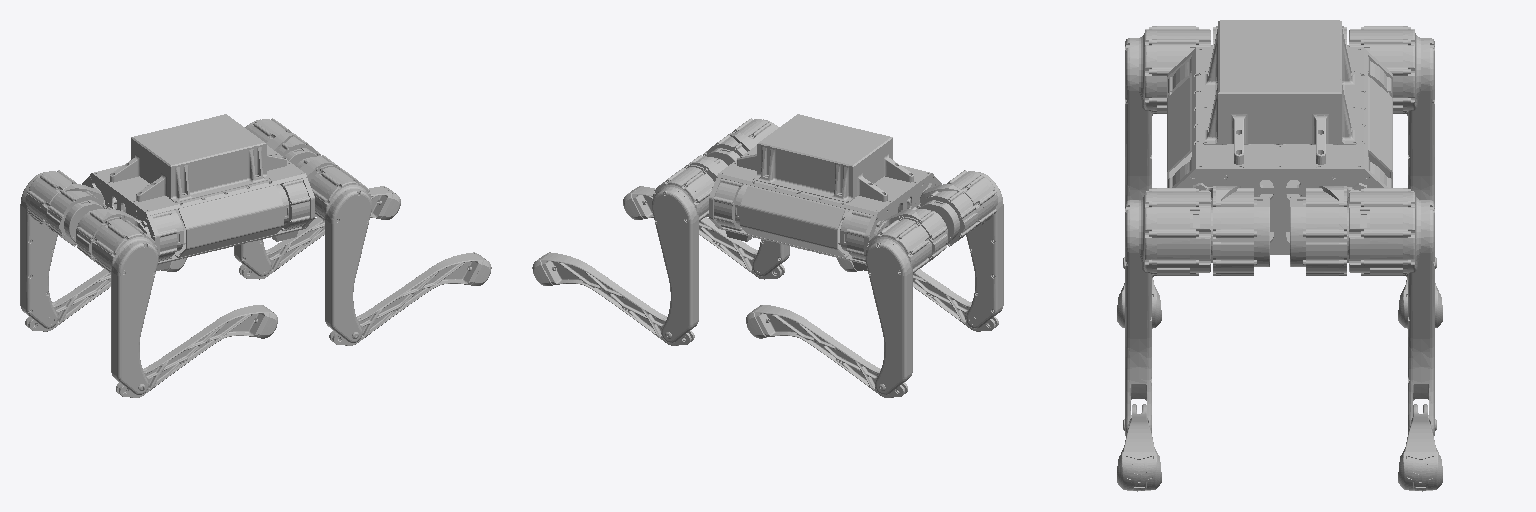
The robot description file, URDF, robot "URDF-V4-test1":
<?xml version="1.0" encoding="utf-8"?>
<!-- This URDF was automatically created by SolidWorks to URDF Exporter! Originally created by Stephen Brawner (brawner@gmail.com) 
     Commit Version: 1.6.0-4-g7f85cfe  Build Version: 1.6.7995.38578
     For more information, please see http://wiki.ros.org/sw_urdf_exporter -->
<robot
  name="URDF-V4-test1">
  <link
    name="base_link">
    <inertial>
      <origin
        xyz="-0.00049167 6.7769E-09 -0.046567"
        rpy="0 0 0" />
      <mass
        value="6.9493" />
      <inertia
        ixx="0.012221"
        ixy="-6.134E-09"
        ixz="-2.1399E-05"
        iyy="0.019119"
        iyz="-7.2605E-10"
        izz="0.025686" />
    </inertial>
    <visual>
      <origin
        xyz="0 0 0"
        rpy="0 0 0" />
      <geometry>
        <mesh
          filename="package://URDF-V4-test1/meshes/base_link.STL" />
      </geometry>
      <material
        name="">
        <color
          rgba="0.75294 0.75294 0.75294 1" />
      </material>
    </visual>
    <collision>
      <origin
        xyz="0 0 0"
        rpy="0 0 0" />
      <geometry>
        <mesh
          filename="package://URDF-V4-test1/meshes/base_link.STL" />
      </geometry>
    </collision>
  </link>
  <link
    name="fl_abad_link">
    <inertial>
      <origin
        xyz="0.042078 -0.024479 6.3482E-08"
        rpy="0 0 0" />
      <mass
        value="0.92886" />
      <inertia
        ixx="0.00049446"
        ixy="5.9311E-06"
        ixz="1.2866E-08"
        iyy="0.00075143"
        iyz="6.7955E-10"
        izz="0.0005481" />
    </inertial>
    <visual>
      <origin
        xyz="0 0 0"
        rpy="0 0 0" />
      <geometry>
        <mesh
          filename="package://URDF-V4-test1/meshes/fl_abad_link.STL" />
      </geometry>
      <material
        name="">
        <color
          rgba="0.75294 0.75294 0.75294 1" />
      </material>
    </visual>
    <collision>
      <origin
        xyz="0 0 0"
        rpy="0 0 0" />
      <geometry>
        <mesh
          filename="package://URDF-V4-test1/meshes/fl_abad_link.STL" />
      </geometry>
    </collision>
  </link>
  <joint
    name="fl_abad_joint"
    type="revolute">
    <origin
      xyz="0.13323 0.071 -0.050115"
      rpy="0 0 0" />
    <parent
      link="base_link" />
    <child
      link="fl_abad_link" />
    <axis
      xyz="1 0 0" />
    <limit
      lower="-0.79"
      upper="0.79"
      effort="0"
      velocity="0" />
  </joint>
  <link
    name="fl_hip_link">
    <inertial>
      <origin
        xyz="-0.0029513 0.055351 -0.026412"
        rpy="0 0 0" />
      <mass
        value="1.2575" />
      <inertia
        ixx="0.0021493"
        ixy="4.4096E-07"
        ixz="-0.00012108"
        iyy="0.0024611"
        iyz="9.4296E-06"
        izz="0.00057093" />
    </inertial>
    <visual>
      <origin
        xyz="0 0 0"
        rpy="0 0 0" />
      <geometry>
        <mesh
          filename="package://URDF-V4-test1/meshes/fl_hip_link.STL" />
      </geometry>
      <material
        name="">
        <color
          rgba="0.75294 0.75294 0.75294 1" />
      </material>
    </visual>
    <collision>
      <origin
        xyz="0 0 0"
        rpy="0 0 0" />
      <geometry>
        <mesh
          filename="package://URDF-V4-test1/meshes/fl_hip_link.STL" />
      </geometry>
    </collision>
  </link>
  <joint
    name="fl_hip_joint"
    type="revolute">
    <origin
      xyz="0.05877 -0.01225 0"
      rpy="0 0 0" />
    <parent
      link="fl_abad_link" />
    <child
      link="fl_hip_link" />
    <axis
      xyz="0 1 0" />
    <limit
      lower="-1.74"
      upper="3.31"
      effort="0"
      velocity="0" />
  </joint>
  <link
    name="fl_knee_link">
    <inertial>
      <origin
        xyz="0.015776 3.4272E-08 -0.094656"
        rpy="0 0 0" />
      <mass
        value="0.16891" />
      <inertia
        ixx="0.0011426"
        ixy="2.4462E-10"
        ixz="0.00018241"
        iyy="0.0011885"
        iyz="5.5669E-10"
        izz="5.6498E-05" />
    </inertial>
    <visual>
      <origin
        xyz="0 0 0"
        rpy="0 0 0" />
      <geometry>
        <mesh
          filename="package://URDF-V4-test1/meshes/fl_knee_link.STL" />
      </geometry>
      <material
        name="">
        <color
          rgba="0.75294 0.75294 0.75294 1" />
      </material>
    </visual>
    <collision>
      <origin
        xyz="0 0 0"
        rpy="0 0 0" />
      <geometry>
        <mesh
          filename="package://URDF-V4-test1/meshes/fl_knee_link.STL" />
      </geometry>
    </collision>
  </link>
  <joint
    name="fl_knee_joint"
    type="revolute">
    <origin
      xyz="0 0.08215 -0.213"
      rpy="0 0 0" />
    <parent
      link="fl_hip_link" />
    <child
      link="fl_knee_link" />
    <axis
      xyz="0 1 0" />
    <limit
      lower="-2.67"
      upper="-0.79"
      effort="0"
      velocity="0" />
  </joint>
  <link
    name="fl_foot_link">
    <inertial>
      <origin
        xyz="-0.0069127 -2.3801E-06 -0.0065607"
        rpy="0 0 0" />
      <mass
        value="0.038902" />
      <inertia
        ixx="9.5493E-06"
        ixy="-2.2414E-10"
        ixz="1.8442E-06"
        iyy="7.8792E-06"
        iyz="-2.2924E-10"
        izz="1.0019E-05" />
    </inertial>
    <visual>
      <origin
        xyz="0 0 0"
        rpy="0 0 0" />
      <geometry>
        <mesh
          filename="package://URDF-V4-test1/meshes/fl_foot_link.STL" />
      </geometry>
      <material
        name="">
        <color
          rgba="0.75294 0.75294 0.75294 1" />
      </material>
    </visual>
    <collision>
      <origin
        xyz="0 0 0"
        rpy="0 0 0" />
      <geometry>
        <mesh
          filename="package://URDF-V4-test1/meshes/fl_foot_link.STL" />
      </geometry>
    </collision>
  </link>
  <joint
    name="fl_foot_joinf"
    type="fixed">
    <origin
      xyz="0.023578 0 -0.225"
      rpy="0 0 0" />
    <parent
      link="fl_knee_link" />
    <child
      link="fl_foot_link" />
    <axis
      xyz="0 0 0" />
  </joint>
  <link
    name="fr_abad_link">
    <inertial>
      <origin
        xyz="0.042078 0.024479 -6.3482E-08"
        rpy="0 0 0" />
      <mass
        value="0.92886" />
      <inertia
        ixx="0.00049446"
        ixy="-5.9311E-06"
        ixz="-1.2866E-08"
        iyy="0.00075143"
        iyz="6.7955E-10"
        izz="0.0005481" />
    </inertial>
    <visual>
      <origin
        xyz="0 0 0"
        rpy="0 0 0" />
      <geometry>
        <mesh
          filename="package://URDF-V4-test1/meshes/fr_abad_link.STL" />
      </geometry>
      <material
        name="">
        <color
          rgba="0.75294 0.75294 0.75294 1" />
      </material>
    </visual>
    <collision>
      <origin
        xyz="0 0 0"
        rpy="0 0 0" />
      <geometry>
        <mesh
          filename="package://URDF-V4-test1/meshes/fr_abad_link.STL" />
      </geometry>
    </collision>
  </link>
  <joint
    name="fr_abad_joint"
    type="revolute">
    <origin
      xyz="0.13323 -0.071 -0.050115"
      rpy="0 0 0" />
    <parent
      link="base_link" />
    <child
      link="fr_abad_link" />
    <axis
      xyz="1 0 0" />
    <limit
      lower="-0.79"
      upper="0.79"
      effort="0"
      velocity="0" />
  </joint>
  <link
    name="fr_hip_link">
    <inertial>
      <origin
        xyz="-0.00295127600653783 -0.0553505296691562 -0.0264119215015597"
        rpy="0 0 0" />
      <mass
        value="1.25749406115707" />
      <inertia
        ixx="0.00214930268727188"
        ixy="-4.40008235011207E-07"
        ixz="-0.000121089509845766"
        iyy="0.0024610842094822"
        iyz="-9.42818653322951E-06"
        izz="0.000570937306967131" />
    </inertial>
    <visual>
      <origin
        xyz="0 0 0"
        rpy="0 0 0" />
      <geometry>
        <mesh
          filename="package://URDF-V4-test1/meshes/fr_hip_link.STL" />
      </geometry>
      <material
        name="">
        <color
          rgba="0.752941176470588 0.752941176470588 0.752941176470588 1" />
      </material>
    </visual>
    <collision>
      <origin
        xyz="0 0 0"
        rpy="0 0 0" />
      <geometry>
        <mesh
          filename="package://URDF-V4-test1/meshes/fr_hip_link.STL" />
      </geometry>
    </collision>
  </link>
  <joint
    name="fr_hip_joint"
    type="revolute">
    <origin
      xyz="0.05877 0.01225 0"
      rpy="0 0 0" />
    <parent
      link="fr_abad_link" />
    <child
      link="fr_hip_link" />
    <axis
      xyz="0 1 0" />
    <limit
      lower="-1.74"
      upper="3.31"
      effort="0"
      velocity="0" />
  </joint>
  <link
    name="fr_knee_link">
    <inertial>
      <origin
        xyz="0.0157755275951559 3.42715062162657E-08 -0.0946563799349887"
        rpy="0 0 0" />
      <mass
        value="0.168909137591324" />
      <inertia
        ixx="0.00114264801809999"
        ixy="2.4461869443836E-10"
        ixz="0.000182407238717794"
        iyy="0.00118852208037432"
        iyz="5.5668564448487E-10"
        izz="5.64976757542647E-05" />
    </inertial>
    <visual>
      <origin
        xyz="0 0 0"
        rpy="0 0 0" />
      <geometry>
        <mesh
          filename="package://URDF-V4-test1/meshes/fr_knee_link.STL" />
      </geometry>
      <material
        name="">
        <color
          rgba="0.752941176470588 0.752941176470588 0.752941176470588 1" />
      </material>
    </visual>
    <collision>
      <origin
        xyz="0 0 0"
        rpy="0 0 0" />
      <geometry>
        <mesh
          filename="package://URDF-V4-test1/meshes/fr_knee_link.STL" />
      </geometry>
    </collision>
  </link>
  <joint
    name="fr_knee_joint"
    type="revolute">
    <origin
      xyz="0 -0.08215 -0.213"
      rpy="0 0 0" />
    <parent
      link="fr_hip_link" />
    <child
      link="fr_knee_link" />
    <axis
      xyz="0 1 0" />
    <limit
      lower="-2.67"
      upper="-0.79"
      effort="0"
      velocity="0" />
  </joint>
  <link
    name="fr_foot_link">
    <inertial>
      <origin
        xyz="-0.00533475077061957 -1.79093260405105E-06 -0.00656074867502143"
        rpy="0 0 0" />
      <mass
        value="0.0389023220231465" />
      <inertia
        ixx="9.54931281293162E-06"
        ixy="-2.24143885745597E-10"
        ixz="1.84420622702918E-06"
        iyy="7.87920842448453E-06"
        iyz="-2.29243200516718E-10"
        izz="1.00191527344223E-05" />
    </inertial>
    <visual>
      <origin
        xyz="0 0 0"
        rpy="0 0 0" />
      <geometry>
        <mesh
          filename="package://URDF-V4-test1/meshes/fr_foot_link.STL" />
      </geometry>
      <material
        name="">
        <color
          rgba="0.752941176470588 0.752941176470588 0.752941176470588 1" />
      </material>
    </visual>
    <collision>
      <origin
        xyz="0 0 0"
        rpy="0 0 0" />
      <geometry>
        <mesh
          filename="package://URDF-V4-test1/meshes/fr_foot_link.STL" />
      </geometry>
    </collision>
  </link>
  <joint
    name="fr_foot_joint"
    type="fixed">
    <origin
      xyz="0.022 0 -0.225"
      rpy="0 0 0" />
    <parent
      link="fr_knee_link" />
    <child
      link="fr_foot_link" />
    <axis
      xyz="0 0 0" />
  </joint>
  <link
    name="rl_abad_link">
    <inertial>
      <origin
        xyz="-0.0420781692531116 -0.024478770162302 -6.34093414997317E-08"
        rpy="0 0 0" />
      <mass
        value="0.928856367851297" />
      <inertia
        ixx="0.000494458255829646"
        ixy="-5.93109415377525E-06"
        ixz="1.28644275061908E-08"
        iyy="0.000751427821800478"
        iyz="-6.78613492704525E-10"
        izz="0.000548097549898436" />
    </inertial>
    <visual>
      <origin
        xyz="0 0 0"
        rpy="0 0 0" />
      <geometry>
        <mesh
          filename="package://URDF-V4-test1/meshes/rl_abad_link.STL" />
      </geometry>
      <material
        name="">
        <color
          rgba="0.752941176470588 0.752941176470588 0.752941176470588 1" />
      </material>
    </visual>
    <collision>
      <origin
        xyz="0 0 0"
        rpy="0 0 0" />
      <geometry>
        <mesh
          filename="package://URDF-V4-test1/meshes/rl_abad_link.STL" />
      </geometry>
    </collision>
  </link>
  <joint
    name="rl_abad_joint"
    type="revolute">
    <origin
      xyz="-0.13323 0.071 -0.050115"
      rpy="0 0 0" />
    <parent
      link="base_link" />
    <child
      link="rl_abad_link" />
    <axis
      xyz="1 0 0" />
    <limit
      lower="-0.79"
      upper="0.79"
      effort="0"
      velocity="0" />
  </joint>
  <link
    name="rl_hip_link">
    <inertial>
      <origin
        xyz="-0.00295127219985069 0.0553508012651617 -0.0264119853083999"
        rpy="0 0 0" />
      <mass
        value="1.2575062472706" />
      <inertia
        ixx="0.002149309498134"
        ixy="4.40956484448867E-07"
        ixz="-0.000121084848677264"
        iyy="0.00246108793182743"
        iyz="9.4296030704541E-06"
        izz="0.000570934023383745" />
    </inertial>
    <visual>
      <origin
        xyz="0 0 0"
        rpy="0 0 0" />
      <geometry>
        <mesh
          filename="package://URDF-V4-test1/meshes/rl_hip_link.STL" />
      </geometry>
      <material
        name="">
        <color
          rgba="0.752941176470588 0.752941176470588 0.752941176470588 1" />
      </material>
    </visual>
    <collision>
      <origin
        xyz="0 0 0"
        rpy="0 0 0" />
      <geometry>
        <mesh
          filename="package://URDF-V4-test1/meshes/rl_hip_link.STL" />
      </geometry>
    </collision>
  </link>
  <joint
    name="rl_hip_joint"
    type="revolute">
    <origin
      xyz="-0.05877 -0.01225 0"
      rpy="0 0 0" />
    <parent
      link="rl_abad_link" />
    <child
      link="rl_hip_link" />
    <axis
      xyz="0 1 0" />
    <limit
      lower="-1.74"
      upper="3.31"
      effort="0"
      velocity="0" />
  </joint>
  <link
    name="rl_knee_link">
    <inertial>
      <origin
        xyz="0.0157755275951558 3.42715063827992E-08 -0.0946563799349867"
        rpy="0 0 0" />
      <mass
        value="0.168909137591316" />
      <inertia
        ixx="0.00114264801809902"
        ixy="2.44618692327364E-10"
        ixz="0.000182407238715603"
        iyy="0.00118852208035357"
        iyz="5.56685649036167E-10"
        izz="5.64976757319342E-05" />
    </inertial>
    <visual>
      <origin
        xyz="0 0 0"
        rpy="0 0 0" />
      <geometry>
        <mesh
          filename="package://URDF-V4-test1/meshes/rl_knee_link.STL" />
      </geometry>
      <material
        name="">
        <color
          rgba="0.752941176470588 0.752941176470588 0.752941176470588 1" />
      </material>
    </visual>
    <collision>
      <origin
        xyz="0 0 0"
        rpy="0 0 0" />
      <geometry>
        <mesh
          filename="package://URDF-V4-test1/meshes/rl_knee_link.STL" />
      </geometry>
    </collision>
  </link>
  <joint
    name="rl_knee_joint"
    type="revolute">
    <origin
      xyz="0 0.08215 -0.213"
      rpy="0 0 0" />
    <parent
      link="rl_hip_link" />
    <child
      link="rl_knee_link" />
    <axis
      xyz="0 1 0" />
    <limit
      lower="-2.67"
      upper="-0.79"
      effort="0"
      velocity="0" />
  </joint>
  <link
    name="rl_foot_link">
    <inertial>
      <origin
        xyz="-0.00566277667023726 -2.38009014508211E-06 -0.00693809930669181"
        rpy="0 0 0" />
      <mass
        value="0.0389023220231459" />
      <inertia
        ixx="9.5493128129314E-06"
        ixy="-2.24143885796009E-10"
        ixz="1.84420622702916E-06"
        iyy="7.87920842448442E-06"
        iyz="-2.29243200429862E-10"
        izz="1.0019152734422E-05" />
    </inertial>
    <visual>
      <origin
        xyz="0 0 0"
        rpy="0 0 0" />
      <geometry>
        <mesh
          filename="package://URDF-V4-test1/meshes/rl_foot_link.STL" />
      </geometry>
      <material
        name="">
        <color
          rgba="0.752941176470588 0.752941176470588 0.752941176470588 1" />
      </material>
    </visual>
    <collision>
      <origin
        xyz="0 0 0"
        rpy="0 0 0" />
      <geometry>
        <mesh
          filename="package://URDF-V4-test1/meshes/rl_foot_link.STL" />
      </geometry>
    </collision>
  </link>
  <joint
    name="rl_foot_joint"
    type="fixed">
    <origin
      xyz="0.022 0 -0.225"
      rpy="0 0 0" />
    <parent
      link="rl_knee_link" />
    <child
      link="rl_foot_link" />
    <axis
      xyz="0 0 0" />
  </joint>
  <link
    name="rr_abad_link">
    <inertial>
      <origin
        xyz="-0.0420781692973412 0.0244787701898436 6.34871614377253E-08"
        rpy="0 0 0" />
      <mass
        value="0.928856366079835" />
      <inertia
        ixx="0.000494458255385036"
        ixy="5.93109447406546E-06"
        ixz="-1.2865456411775E-08"
        iyy="0.000751427819863049"
        iyz="-6.79641783786189E-10"
        izz="0.000548097550476743" />
    </inertial>
    <visual>
      <origin
        xyz="0 0 0"
        rpy="0 0 0" />
      <geometry>
        <mesh
          filename="package://URDF-V4-test1/meshes/rr_abad_link.STL" />
      </geometry>
      <material
        name="">
        <color
          rgba="0.752941176470588 0.752941176470588 0.752941176470588 1" />
      </material>
    </visual>
    <collision>
      <origin
        xyz="0 0 0"
        rpy="0 0 0" />
      <geometry>
        <mesh
          filename="package://URDF-V4-test1/meshes/rr_abad_link.STL" />
      </geometry>
    </collision>
  </link>
  <joint
    name="rr_abad_joint"
    type="revolute">
    <origin
      xyz="-0.13323 -0.071 -0.050115"
      rpy="0 0 0" />
    <parent
      link="base_link" />
    <child
      link="rr_abad_link" />
    <axis
      xyz="1 0 0" />
    <limit
      lower="-0.79"
      upper="0.79"
      effort="0"
      velocity="0" />
  </joint>
  <link
    name="rr_hip_link">
    <inertial>
      <origin
        xyz="-0.00295127679931295 -0.055350529729996 -0.026411921870828"
        rpy="0 0 0" />
      <mass
        value="1.25749406287706" />
      <inertia
        ixx="0.00214930268681864"
        ixy="-4.39987018540022E-07"
        ixz="-0.000121089510032065"
        iyy="0.00246108420957282"
        iyz="-9.42817590134888E-06"
        izz="0.000570937307193574" />
    </inertial>
    <visual>
      <origin
        xyz="0 0 0"
        rpy="0 0 0" />
      <geometry>
        <mesh
          filename="package://URDF-V4-test1/meshes/rr_hip_link.STL" />
      </geometry>
      <material
        name="">
        <color
          rgba="0.752941176470588 0.752941176470588 0.752941176470588 1" />
      </material>
    </visual>
    <collision>
      <origin
        xyz="0 0 0"
        rpy="0 0 0" />
      <geometry>
        <mesh
          filename="package://URDF-V4-test1/meshes/rr_hip_link.STL" />
      </geometry>
    </collision>
  </link>
  <joint
    name="rr_hip_joint"
    type="revolute">
    <origin
      xyz="-0.05877 0.01225 0"
      rpy="0 0 0" />
    <parent
      link="rr_abad_link" />
    <child
      link="rr_hip_link" />
    <axis
      xyz="0 1 0" />
    <limit
      lower="-1.74"
      upper="3.31"
      effort="0"
      velocity="0" />
  </joint>
  <link
    name="rr_knee_link">
    <inertial>
      <origin
        xyz="0.0157755275951563 3.4271506070549E-08 -0.0946563799349878"
        rpy="0 0 0" />
      <mass
        value="0.168909137591319" />
      <inertia
        ixx="0.00114264801809904"
        ixy="2.44618693892352E-10"
        ixz="0.000182407238718271"
        iyy="0.00118852208034887"
        iyz="5.56685644110282E-10"
        izz="5.64976757281815E-05" />
    </inertial>
    <visual>
      <origin
        xyz="0 0 0"
        rpy="0 0 0" />
      <geometry>
        <mesh
          filename="package://URDF-V4-test1/meshes/rr_knee_link.STL" />
      </geometry>
      <material
        name="">
        <color
          rgba="0.752941176470588 0.752941176470588 0.752941176470588 1" />
      </material>
    </visual>
    <collision>
      <origin
        xyz="0 0 0"
        rpy="0 0 0" />
      <geometry>
        <mesh
          filename="package://URDF-V4-test1/meshes/rr_knee_link.STL" />
      </geometry>
    </collision>
  </link>
  <joint
    name="rr_knee_joint"
    type="revolute">
    <origin
      xyz="0 -0.08215 -0.213"
      rpy="0 0 0" />
    <parent
      link="rr_hip_link" />
    <child
      link="rr_knee_link" />
    <axis
      xyz="0 1 0" />
    <limit
      lower="-2.67"
      upper="-0.79"
      effort="0"
      velocity="0" />
  </joint>
  <link
    name="rr_foot_link">
    <inertial>
      <origin
        xyz="-0.00566277667054906 -1.79093222103799E-06 -0.0069380993062424"
        rpy="0 0 0" />
      <mass
        value="0.0389023220259562" />
      <inertia
        ixx="9.54931281301923E-06"
        ixy="-2.2414373730689E-10"
        ixz="1.8442062269997E-06"
        iyy="7.87920842474891E-06"
        iyz="-2.29243183988196E-10"
        izz="1.00191527347673E-05" />
    </inertial>
    <visual>
      <origin
        xyz="0 0 0"
        rpy="0 0 0" />
      <geometry>
        <mesh
          filename="package://URDF-V4-test1/meshes/rr_foot_link.STL" />
      </geometry>
      <material
        name="">
        <color
          rgba="0.752941176470588 0.752941176470588 0.752941176470588 1" />
      </material>
    </visual>
    <collision>
      <origin
        xyz="0 0 0"
        rpy="0 0 0" />
      <geometry>
        <mesh
          filename="package://URDF-V4-test1/meshes/rr_foot_link.STL" />
      </geometry>
    </collision>
  </link>
  <joint
    name="rr_foot_joint"
    type="fixed">
    <origin
      xyz="0.022 0 -0.225"
      rpy="0 0 0" />
    <parent
      link="rr_knee_link" />
    <child
      link="rr_foot_link" />
    <axis
      xyz="0 0 0" />
  </joint>
</robot>

--- Facts derived from the render (not from the file) ---
Views: 3 orthographic renders of the robot side by side, from view 1: azimuth 30°, elevation 25°; view 2: azimuth 150°, elevation 25°; view 3: azimuth 270°, elevation 25°.
Robot: URDF-V4-test1 — 17 links, 16 joints (12 revolute, 4 fixed); root link base_link; default pose: all joints at 0 but 4 set to mid-range because 0 is outside their limits (fl_knee_joint = -1.73, fr_knee_joint = -1.73, rl_knee_joint = -1.73, rr_knee_joint = -1.73).
Links seen in each view (by area): view 1: base_link, rr_hip_link, fr_hip_link, rl_hip_link, rr_knee_link, fr_knee_link, rl_abad_link, fl_knee_link, fl_hip_link, rl_knee_link, rr_abad_link, fl_abad_link (+1 smaller); view 2: base_link, rl_hip_link, fl_hip_link, rr_hip_link, rl_knee_link, fl_knee_link, rr_abad_link, fr_knee_link, fr_hip_link, rr_knee_link, rl_abad_link, fr_abad_link (+1 smaller); view 3: base_link, fl_hip_link, fr_hip_link, rl_hip_link, rr_hip_link, fl_abad_link, fr_abad_link, fl_foot_link, fr_foot_link, fl_knee_link, fr_knee_link, rl_foot_link (+1 smaller).
Boxes of the visible links, left/top/right/bottom form: base_link: left=82, top=114, right=314, bottom=270; rr_hip_link: left=92, top=219, right=158, bottom=394; fr_hip_link: left=309, top=167, right=371, bottom=342; rl_hip_link: left=20, top=170, right=76, bottom=328; rr_knee_link: left=116, top=305, right=269, bottom=397; fr_knee_link: left=329, top=253, right=482, bottom=345; rl_abad_link: left=46, top=183, right=106, bottom=246; fl_knee_link: left=239, top=186, right=391, bottom=279; fl_hip_link: left=234, top=118, right=291, bottom=276; rl_knee_link: left=25, top=262, right=171, bottom=331; rr_abad_link: left=76, top=207, right=150, bottom=267; fl_abad_link: left=266, top=133, right=320, bottom=165; base_link: left=709, top=114, right=941, bottom=270; rl_hip_link: left=865, top=219, right=931, bottom=394; fl_hip_link: left=652, top=167, right=714, bottom=342; rr_hip_link: left=947, top=170, right=1003, bottom=328; rl_knee_link: left=754, top=305, right=907, bottom=397; fl_knee_link: left=541, top=253, right=694, bottom=345; rr_abad_link: left=917, top=183, right=977, bottom=246; fr_knee_link: left=632, top=186, right=784, bottom=279; fr_hip_link: left=732, top=118, right=789, bottom=276; rr_knee_link: left=852, top=262, right=998, bottom=331; rl_abad_link: left=873, top=207, right=947, bottom=267; fr_abad_link: left=703, top=133, right=757, bottom=165; base_link: left=1167, top=20, right=1392, bottom=262; fl_hip_link: left=1347, top=188, right=1436, bottom=435; fr_hip_link: left=1123, top=188, right=1212, bottom=435; rl_hip_link: left=1347, top=26, right=1436, bottom=268; rr_hip_link: left=1123, top=26, right=1212, bottom=268; fl_abad_link: left=1290, top=183, right=1366, bottom=275; fr_abad_link: left=1193, top=183, right=1269, bottom=275; fl_foot_link: left=1398, top=452, right=1442, bottom=491; fr_foot_link: left=1117, top=452, right=1161, bottom=491; fl_knee_link: left=1402, top=404, right=1438, bottom=453; fr_knee_link: left=1121, top=404, right=1157, bottom=453; rl_foot_link: left=1398, top=290, right=1442, bottom=328.
Size in the robot's own frame: 0.6726 by 0.327 by 0.3385 metres.
Meshes: 17 distinct files referenced, 17 mesh visuals loaded (17 binary STL).
